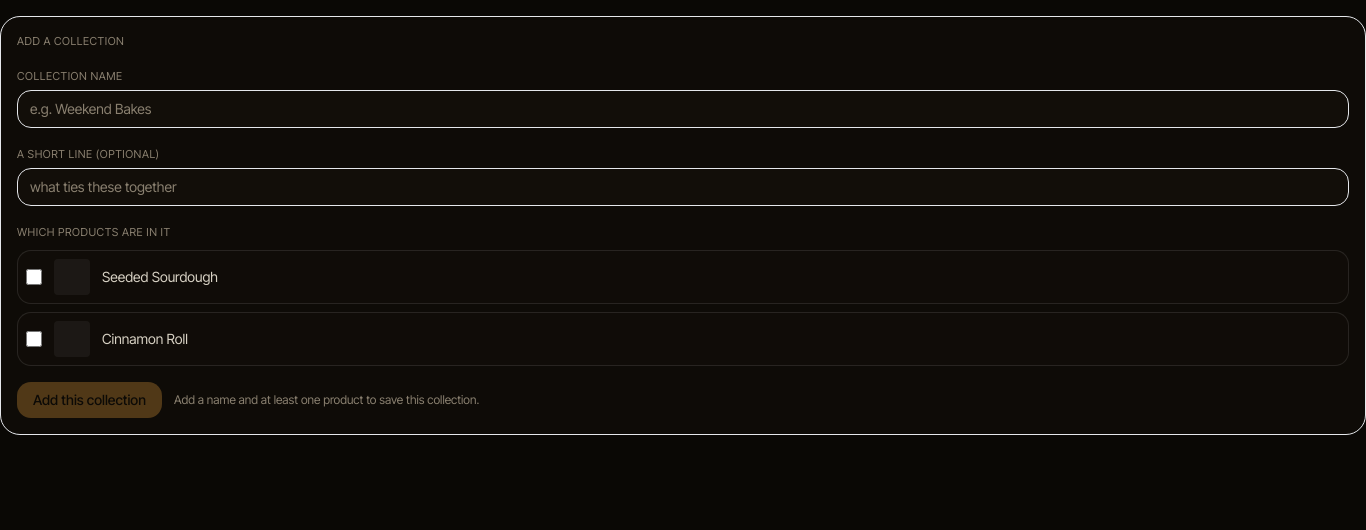
CollectionsEditor › saving a collection appends it and resolves the step
This screenshot has width=1366, height=530.
In the field labelled "Collection name": (683, 108) [17, 90, 1349, 128], type "Weekend Bakes"
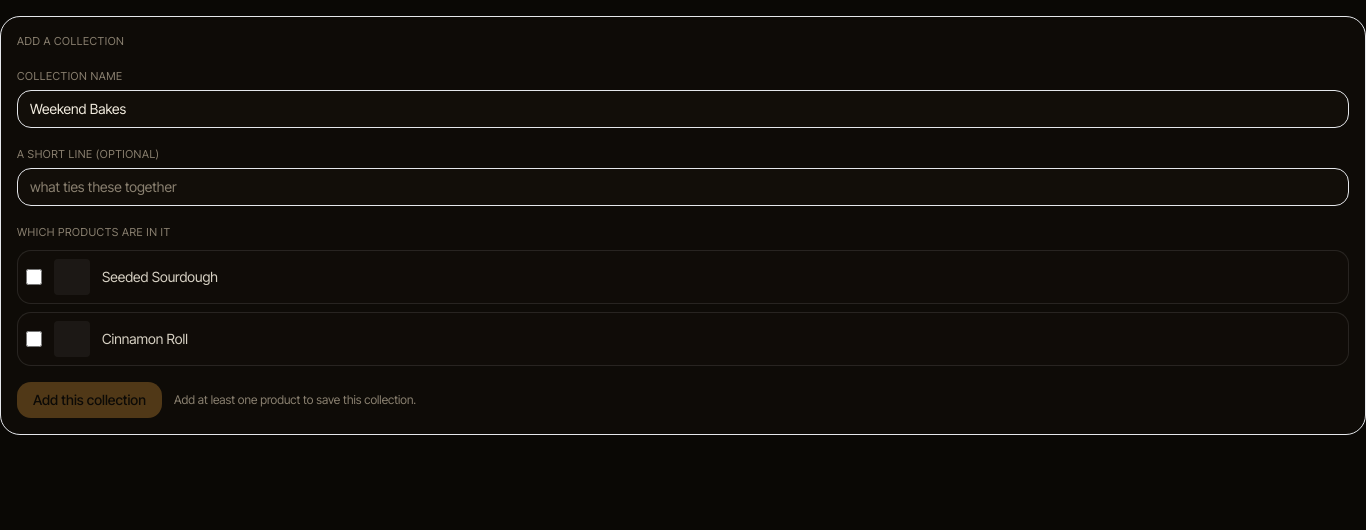
Click the checkbox labelled "Seeded Sourdough": click(34, 276) [26, 268, 42, 284]
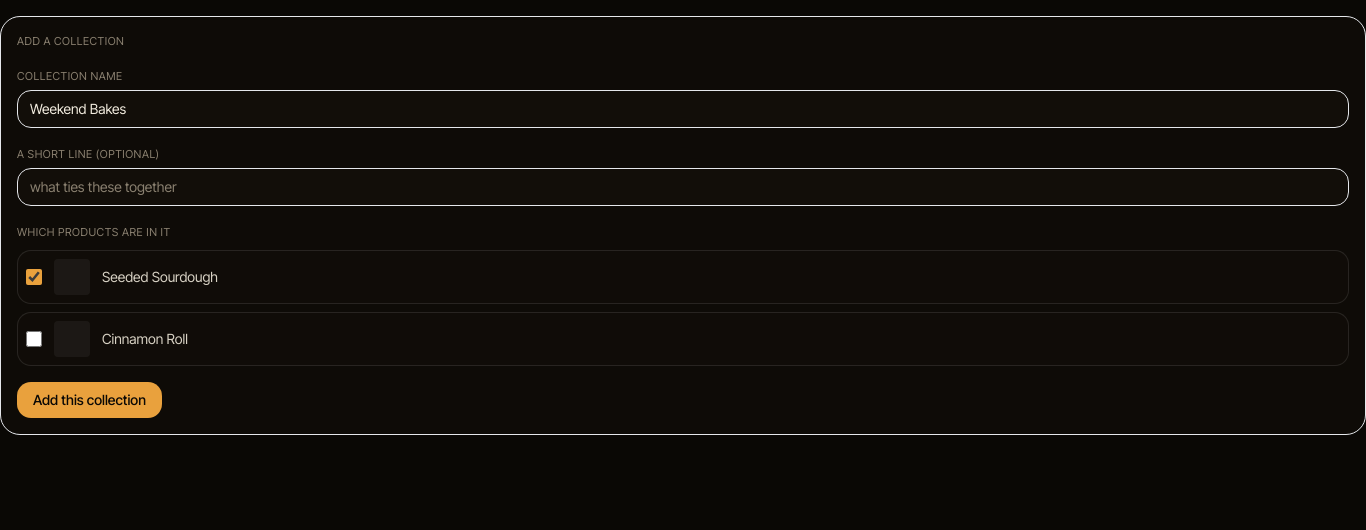
Click the button "Add this collection": click(90, 400) [17, 382, 162, 418]
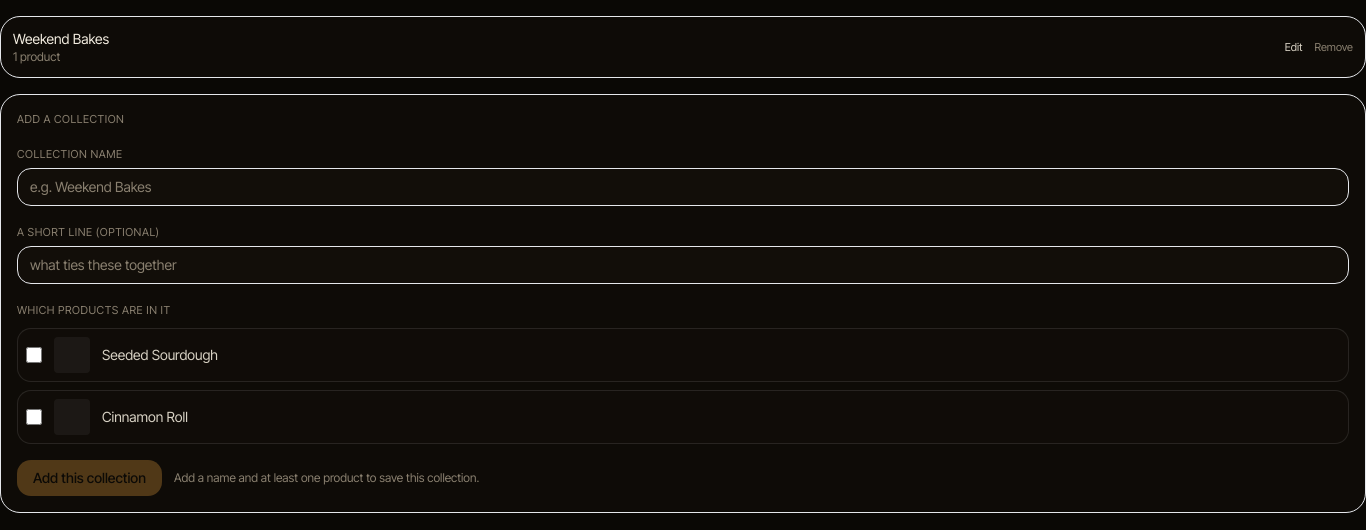
Check: the text "Weekend Bakes" is shown, box [13, 30, 109, 47]
